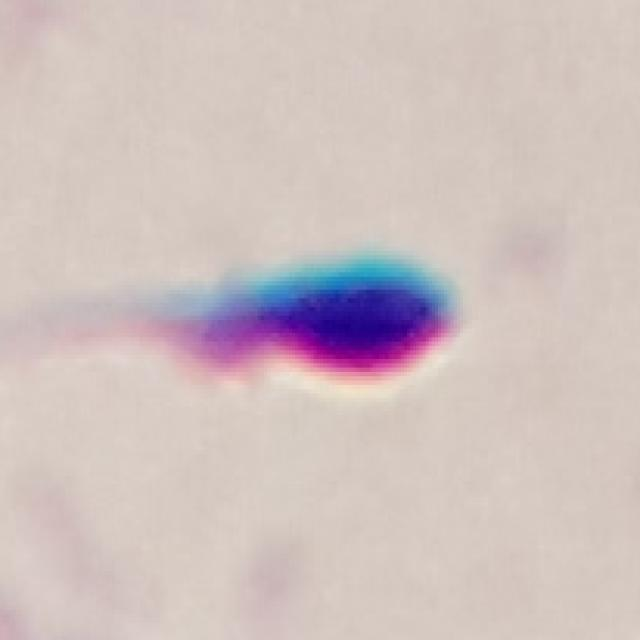abnormal sperm: (16, 250, 464, 400)
